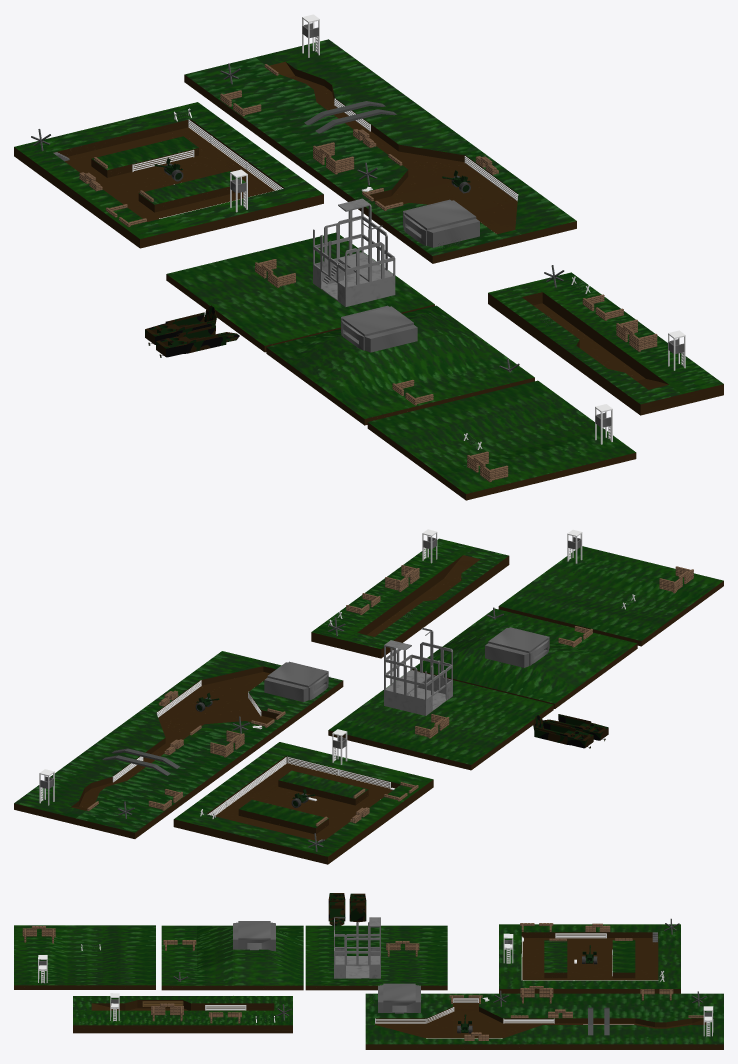
The model's file is 3d_trench_system_pack_free.glb.
3 renders of one model, top to bottom at view 1: azimuth 30°, elevation 25°; view 2: azimuth 150°, elevation 25°; view 3: azimuth 270°, elevation 25°, orthographic. The views are drawn at different scales.
Visible parts, largest first — view 1: trench 01_0, trench .001_20, Cube.003_54, Cube.002_53, trench _17, Cube.001_50, predio quebrado_60, Cube.061_40, Cube.006_62, barco 2.001_64, Cylinder.001_68, logistics bridge_1; view 2: trench 01_0, trench .001_20, Cube.003_54, Cube.001_50, Cube.002_53, trench _17, predio quebrado_60, Cube.061_40, Cube.006_62, Cylinder.001_68, barco 2.001_64, logistics bridge_1; view 3: trench 01_0, trench .001_20, Cube.003_54, Cube.002_53, trench _17, Cube.001_50, predio quebrado_60, Cube.061_40, Cube.006_62, barco 2.001_64, Cube.060_39, sand bag _16 (+7 smaller).
Boxes of the visible parts, left/top/right/bottom form: trench 01_0: left=184, top=39, right=576, bottom=263; trench .001_20: left=14, top=102, right=323, bottom=248; Cube.003_54: left=367, top=380, right=636, bottom=500; Cube.002_53: left=266, top=305, right=534, bottom=425; trench _17: left=488, top=272, right=723, bottom=415; Cube.001_50: left=166, top=232, right=434, bottom=352; predio quebrado_60: left=313, top=198, right=395, bottom=306; Cube.061_40: left=403, top=199, right=479, bottom=247; Cube.006_62: left=341, top=305, right=417, bottom=352; barco 2.001_64: left=156, top=325, right=239, bottom=357; Cylinder.001_68: left=145, top=312, right=215, bottom=345; logistics bridge_1: left=304, top=101, right=396, bottom=133; trench 01_0: left=14, top=651, right=343, bottom=838; trench .001_20: left=173, top=742, right=433, bottom=864; Cube.003_54: left=498, top=546, right=723, bottom=646; Cube.001_50: left=328, top=671, right=553, bottom=770; Cube.002_53: left=412, top=608, right=637, bottom=708; trench _17: left=311, top=538, right=509, bottom=658; predio quebrado_60: left=384, top=627, right=452, bottom=715; Cube.061_40: left=264, top=661, right=328, bottom=701; Cube.006_62: left=485, top=627, right=549, bottom=667; Cylinder.001_68: left=534, top=721, right=593, bottom=748; barco 2.001_64: left=542, top=714, right=608, bottom=741; logistics bridge_1: left=102, top=748, right=179, bottom=775; trench 01_0: left=365, top=993, right=723, bottom=1049; trench .001_20: left=499, top=924, right=680, bottom=993; Cube.003_54: left=14, top=925, right=155, bottom=989; Cube.002_53: left=161, top=925, right=303, bottom=990; trench _17: left=73, top=996, right=292, bottom=1033; Cube.001_50: left=305, top=925, right=447, bottom=990; predio quebrado_60: left=334, top=917, right=380, bottom=978; Cube.061_40: left=378, top=983, right=420, bottom=1013; Cube.006_62: left=233, top=921, right=275, bottom=950; barco 2.001_64: left=328, top=893, right=345, bottom=925; Cube.060_39: left=151, top=1003, right=183, bottom=1021; sand bag _16: left=520, top=986, right=553, bottom=1003.
Size of the model in its own units: 76.7 by 13.49 by 150.
Materials: 40 (28 with a texture image).
